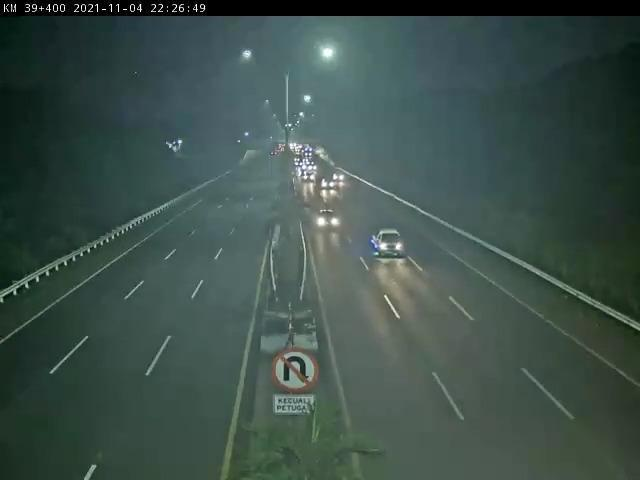car: (309, 205, 346, 238)
truck: (364, 217, 422, 266)
